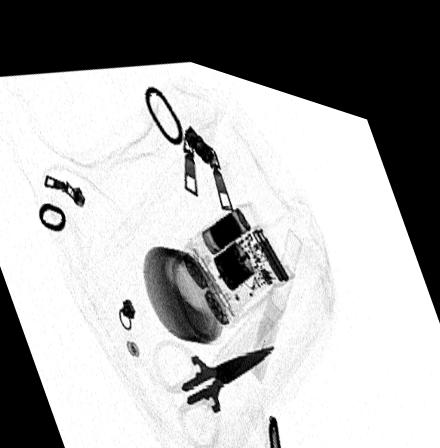Scissors: (151, 325, 277, 440)
